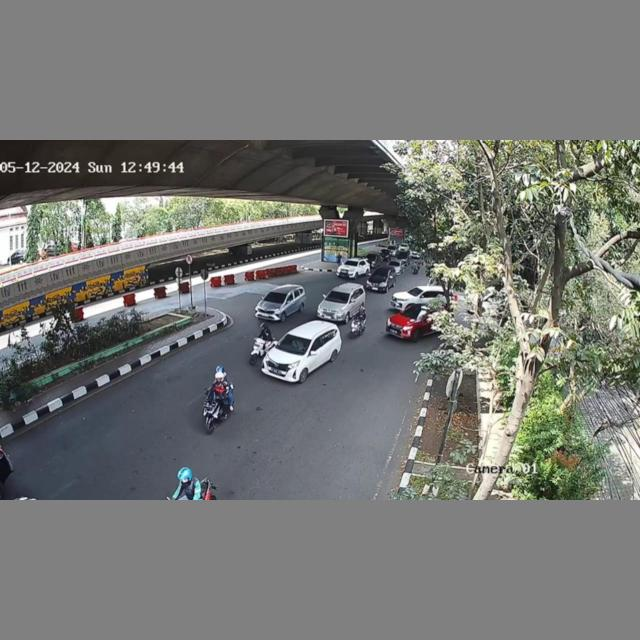windshield: (276, 333, 311, 355), (324, 287, 351, 306), (260, 289, 287, 303)
